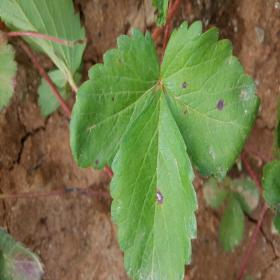Leaf Spot: (109, 84, 198, 279), (160, 20, 261, 181), (70, 27, 160, 169), (0, 29, 19, 116), (202, 175, 233, 209)
